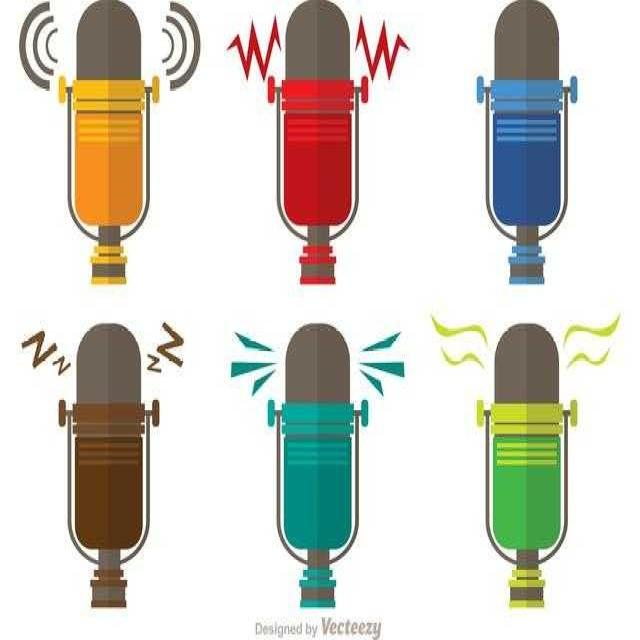microphone: (60, 323, 158, 606), (478, 3, 572, 280), (482, 323, 572, 604), (66, 2, 152, 280), (276, 3, 358, 284), (284, 322, 352, 578)
